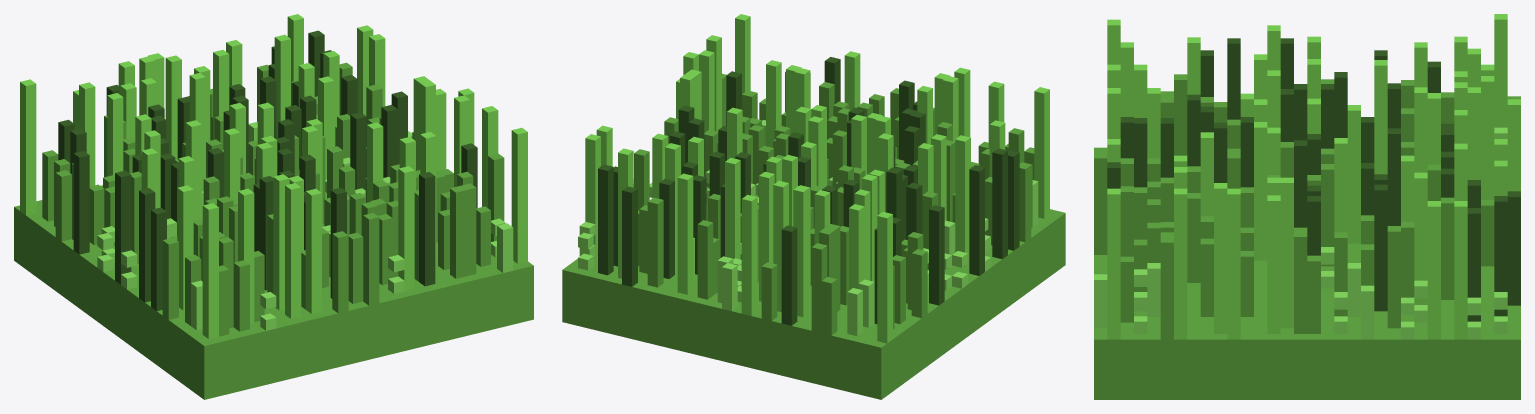
The model's file is Plaines Map-2.obj.
3 renders of one model, left to right at view 1: azimuth 30°, elevation 25°; view 2: azimuth 150°, elevation 25°; view 3: azimuth 270°, elevation 25°, orthographic. The views are drawn at different scales.
Bounding box in the file's own units: 3.2 × 1.7 × 3.2.
1 material, 1 textured.
